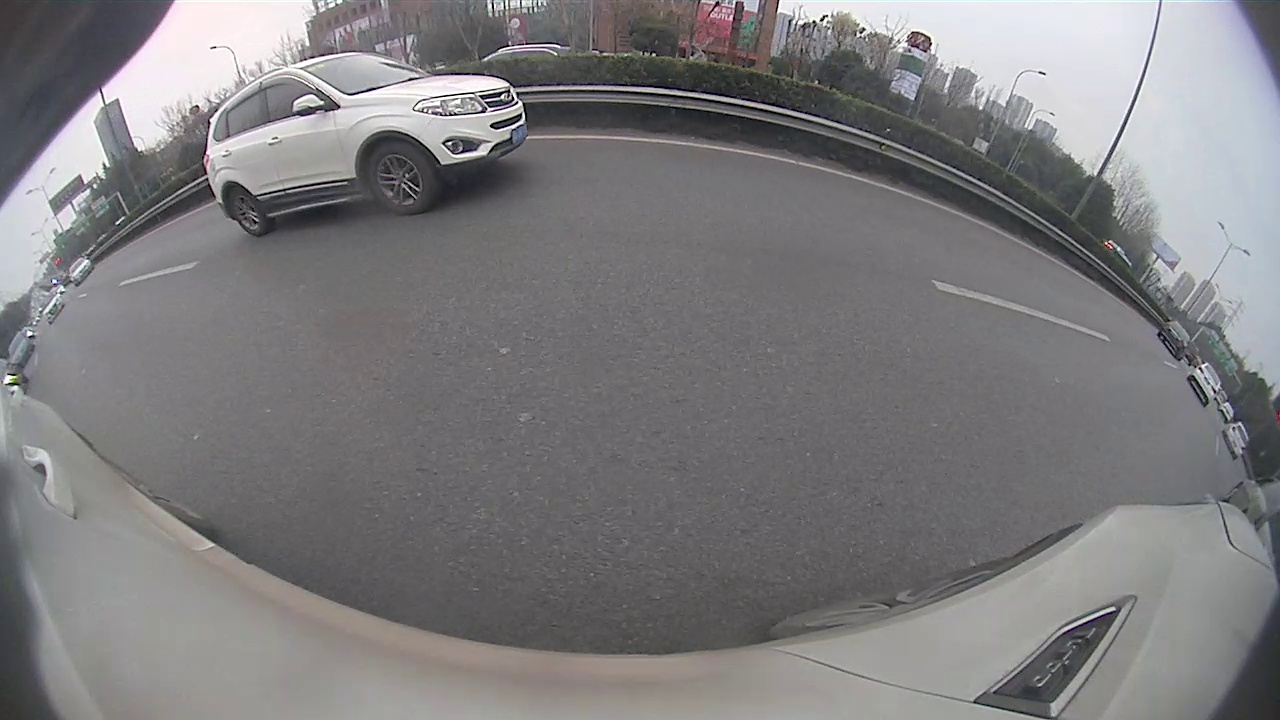car: (204, 49, 529, 241), (1186, 361, 1223, 408), (1157, 319, 1191, 362)
front: (364, 138, 442, 217)
rear: (225, 184, 276, 238)
